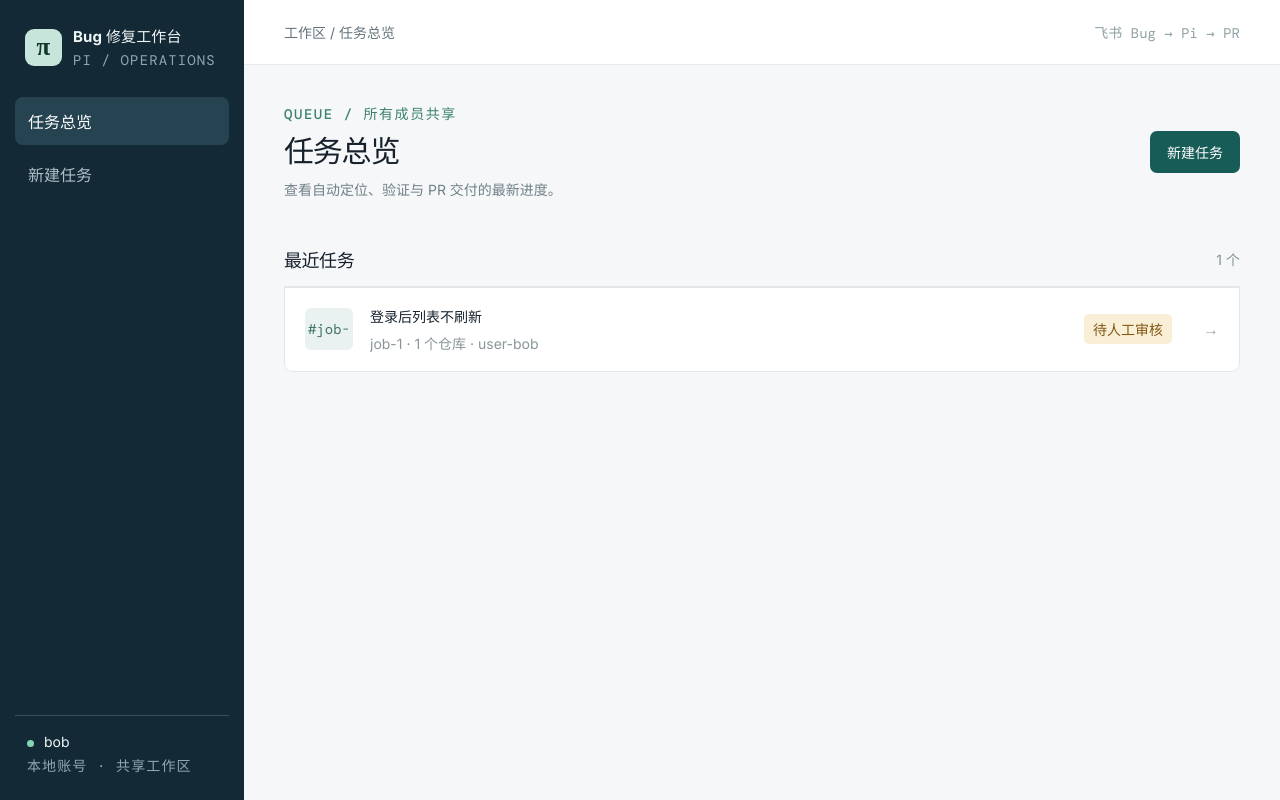
Test: Bug 工作台 › 识别真实 API 的候选映射、用户 ID 和逐仓 PR
Click the button "#job- 登录后列表不刷新 job-1 · 1 个仓库 · user-bob 待人工审核 →".
click(329, 329)  # box [285, 288, 1239, 371]
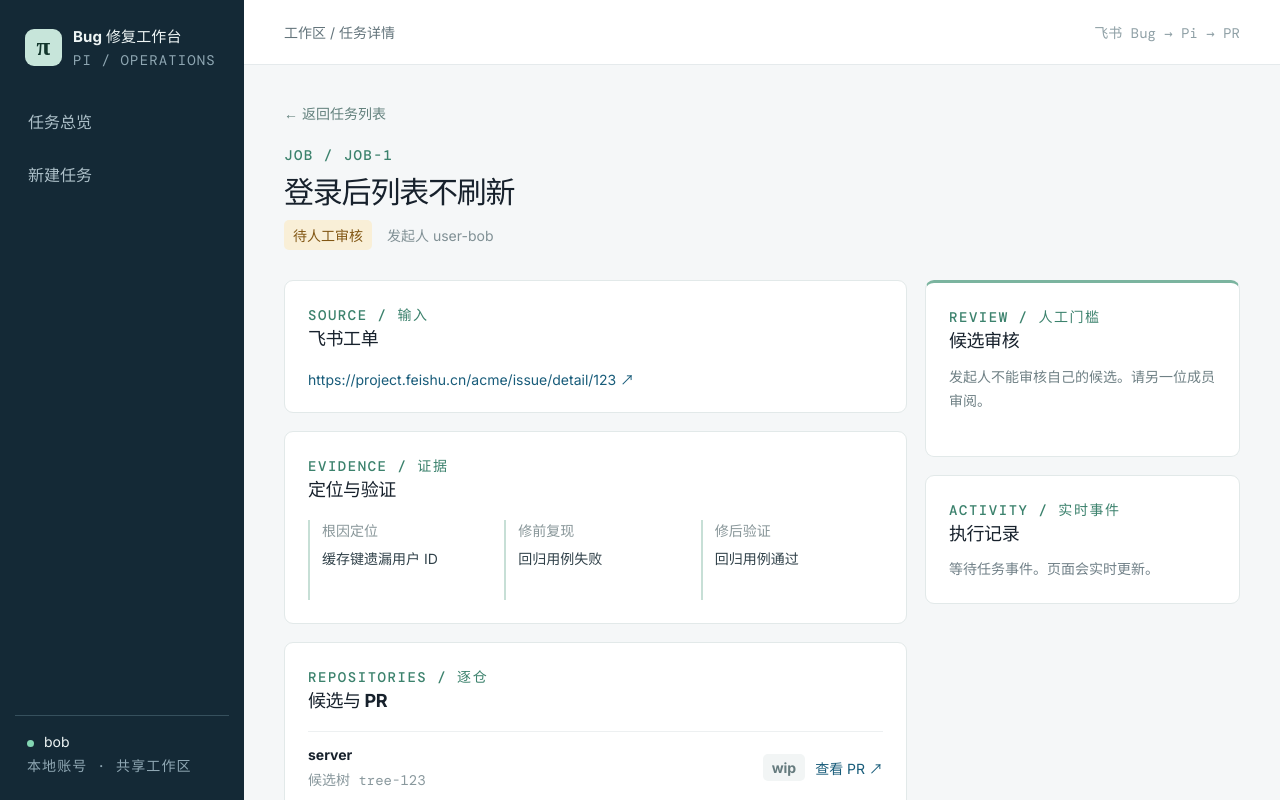
Expected: the text "发起人不能审核自己的候选。请另一位成员审阅。" is shown, [949, 365, 1216, 413]
Expected: the text "候选树 tree-123" is shown, [308, 769, 426, 789]
